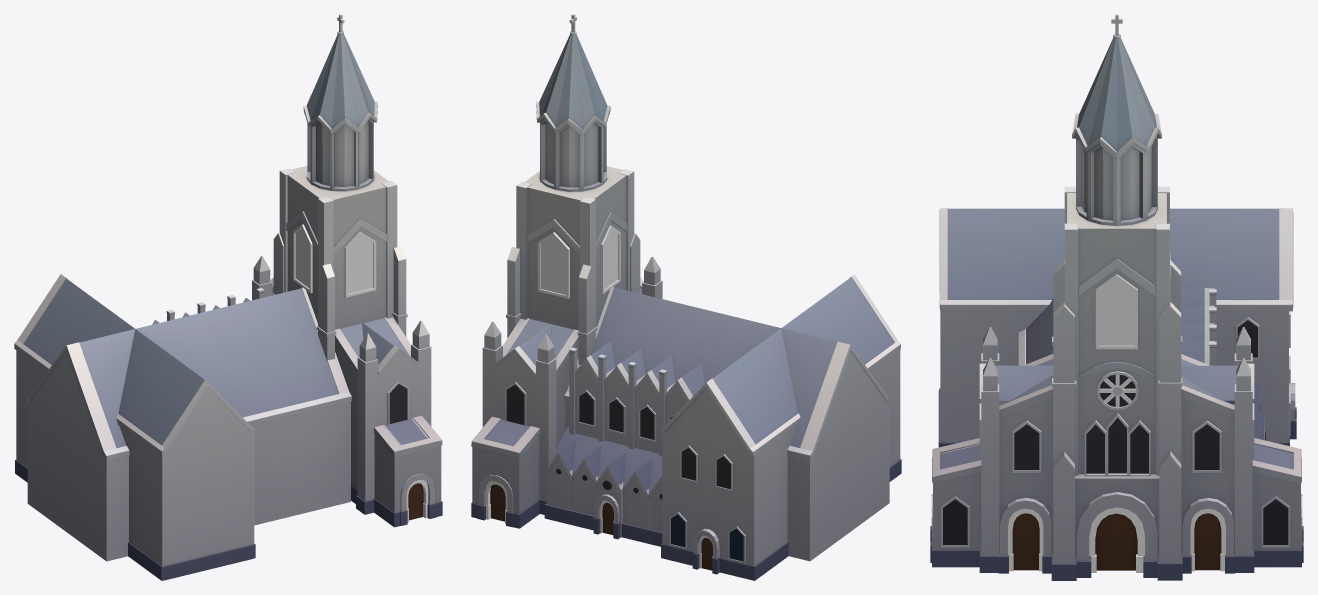
Rendered from ermita.glb.
The picture shows the model from 3 angles, left to right: view 1: azimuth 30°, elevation 25°; view 2: azimuth 150°, elevation 25°; view 3: azimuth 270°, elevation 25°; orthographic projection. The views are drawn at different scales.
Visible parts, largest first — view 1: Cube.056, Cube.088, Cube.043, Cube.117, Cube.090, Cube.102, Cube.115, Cube.036; view 2: Cube.056, Cube.088, Cube.083, Cube.090, Cube.043, Cube.102, Cube.117, Cube.115, Cube.036; view 3: Cube.088, Cube.056, Cube.090, Cube.102, Cube.043, Cube.117, Cube.115, Cube.083, Cube.036.
Boxes of the visible parts, box(x1,y1,x2,y2) form: Cube.056: box(14, 274, 351, 580); Cube.088: box(287, 166, 442, 527); Cube.043: box(303, 31, 377, 191); Cube.117: box(252, 256, 431, 514); Cube.090: box(166, 168, 407, 361); Cube.102: box(293, 224, 409, 425); Cube.115: box(400, 473, 436, 525); Cube.036: box(286, 211, 387, 254); Cube.056: box(544, 274, 901, 580); Cube.088: box(471, 166, 626, 528); Cube.083: box(546, 340, 705, 537); Cube.090: box(506, 169, 667, 456); Cube.043: box(536, 31, 610, 191); Cube.102: box(504, 225, 745, 563); Cube.117: box(482, 256, 662, 514); Cube.115: box(477, 474, 720, 574); Cube.036: box(526, 212, 627, 255); Cube.088: box(932, 193, 1301, 570); Cube.056: box(938, 208, 1293, 447); Cube.090: box(1051, 186, 1216, 580); Cube.102: box(940, 253, 1290, 547); Cube.043: box(1072, 33, 1161, 225); Cube.117: box(979, 327, 1254, 572); Cube.115: box(930, 383, 1303, 577); Cube.083: box(1181, 288, 1264, 440); Cube.036: box(1078, 258, 1156, 382).
Size of the model in its own units: 3.45 by 4.58 by 2.88.
Materials: 12 (12 with a texture image).
